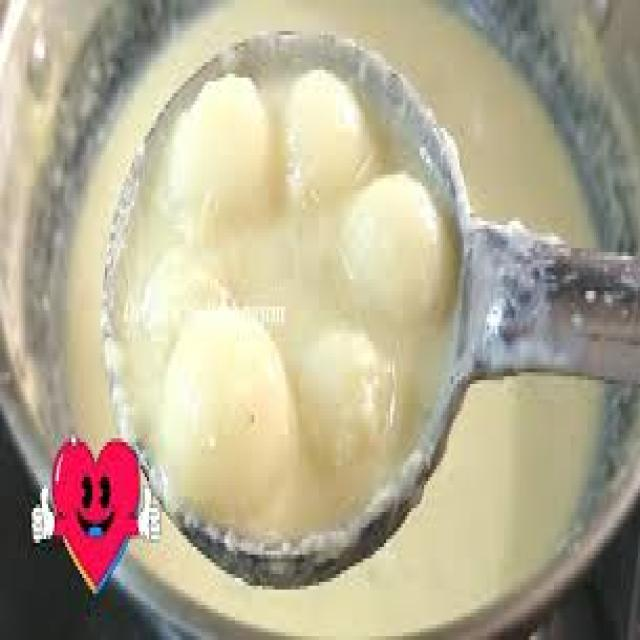paal kolukattai: (113, 50, 431, 567)
